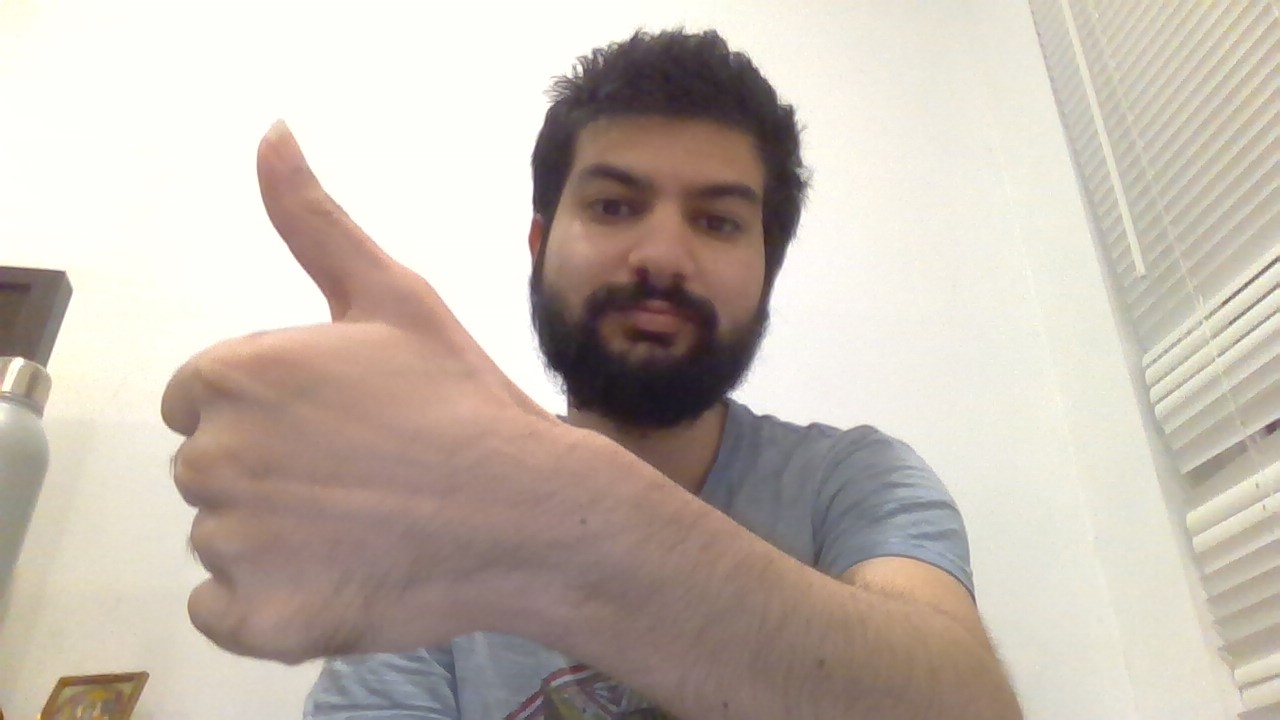up: (147, 109, 499, 657)
